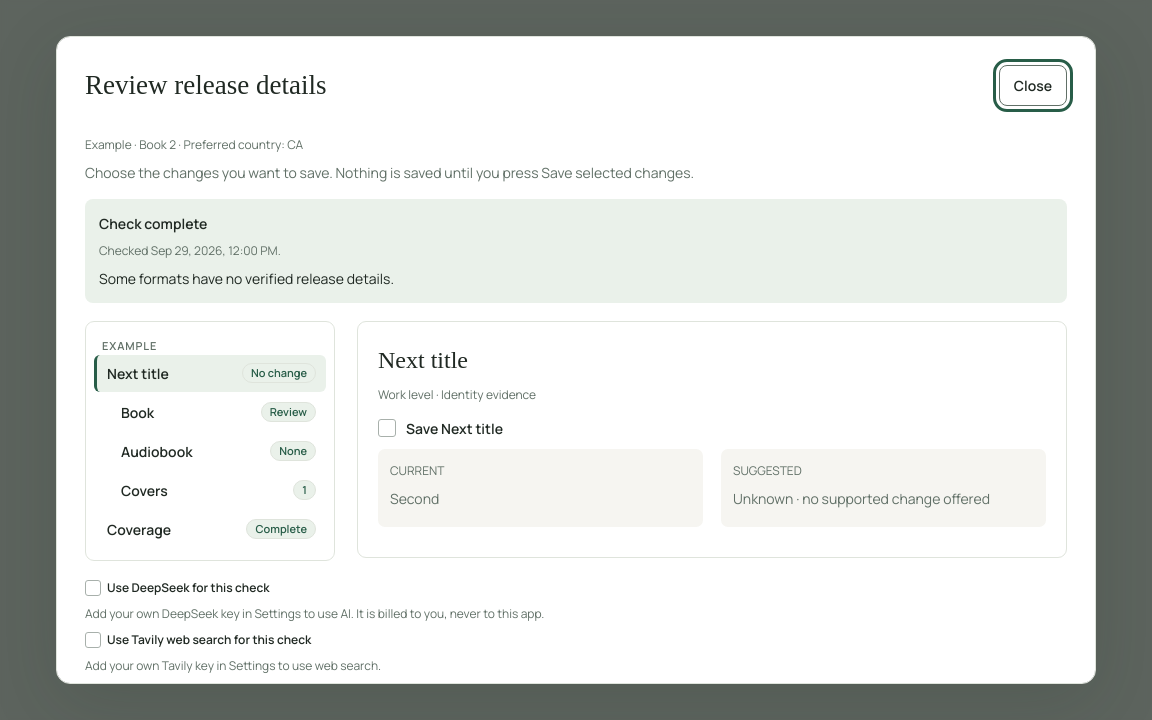
Test: audio square art is labelled review only and has no selection control
Click the tab "Covers 1": (217,490) x1=108 y1=472 x2=326 y2=508
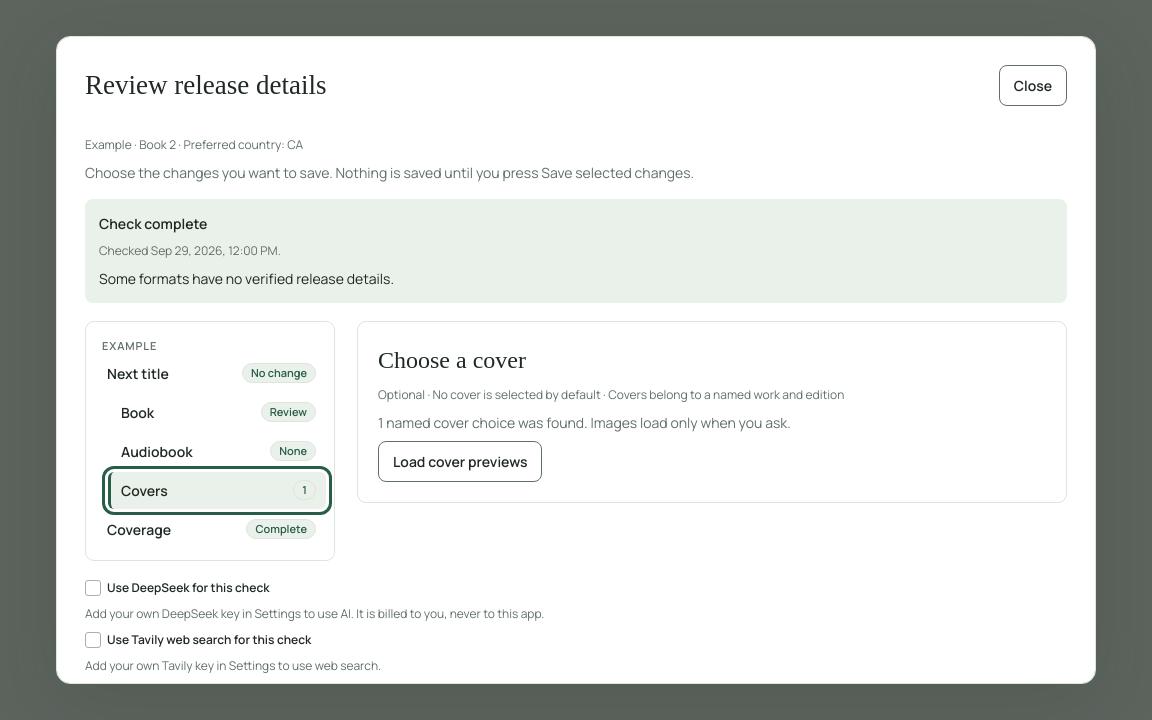
Click the button "Load cover previews": (460,461) x1=378 y1=440 x2=542 y2=482
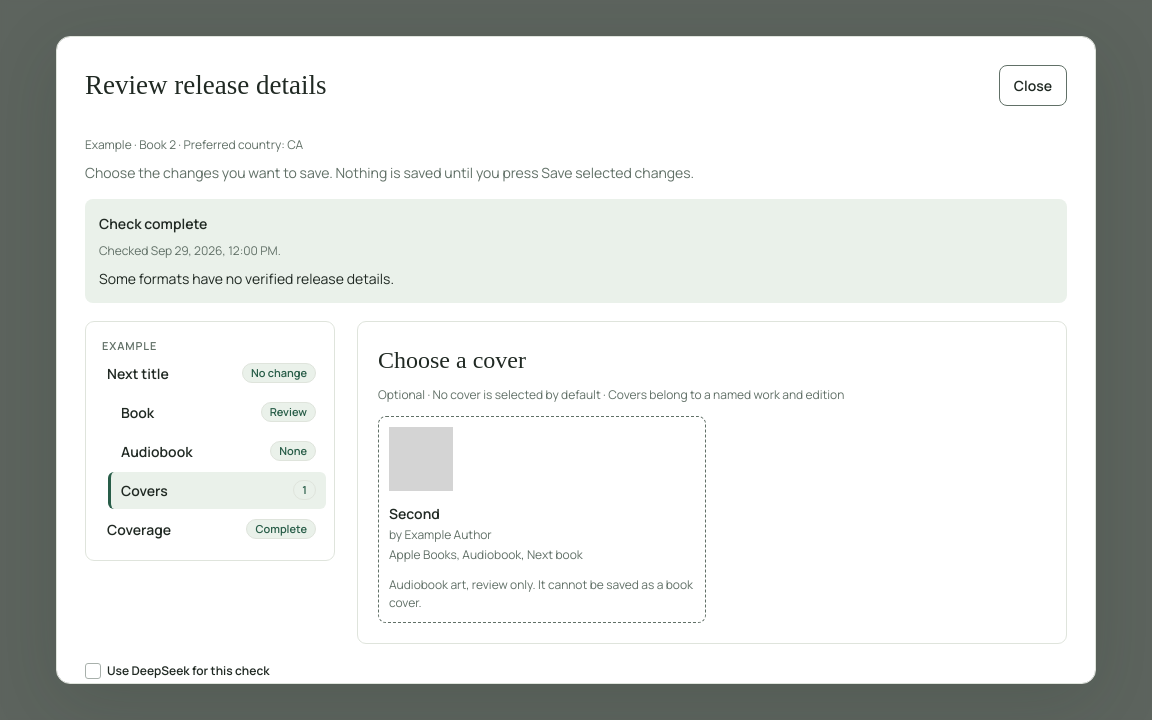
Expected: the text "Audiobook art, review only" is shown, x1=389 y1=576 x2=693 y2=610
Expected: the text "Apple Books, Audiobook, Next book" is shown, x1=389 y1=546 x2=583 y2=564
